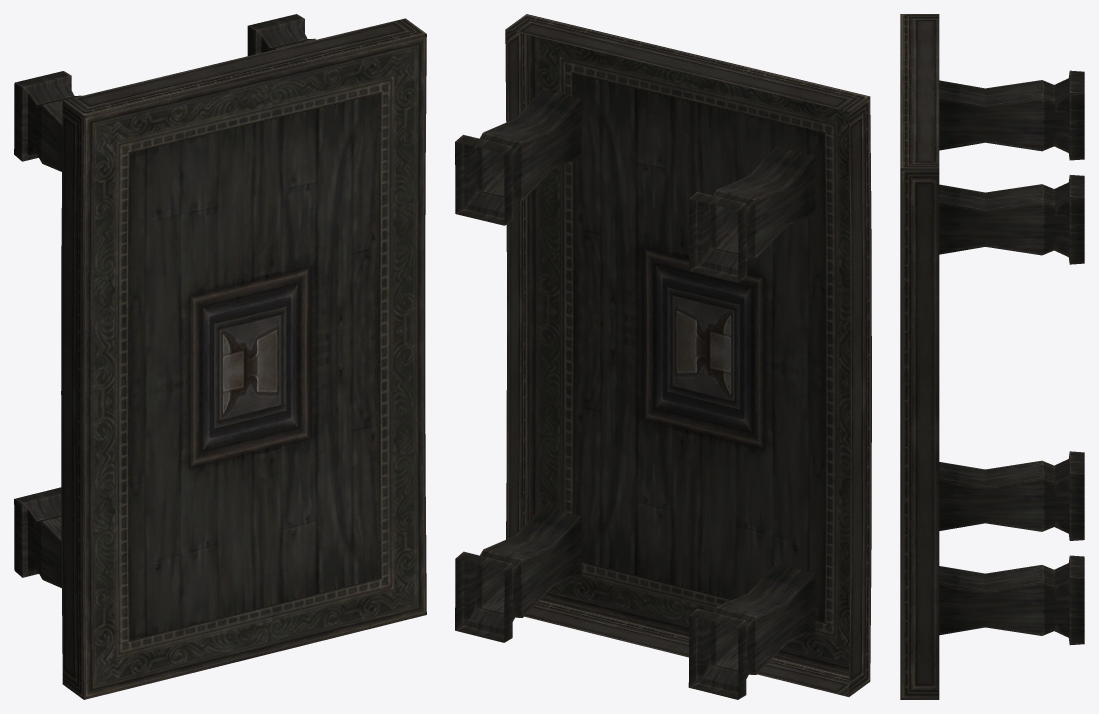
Rendered from juqing_fuben_254_jiuzhuo_01.obj.
The picture shows the model from 3 angles, left to right: view 1: azimuth 30°, elevation 25°; view 2: azimuth 150°, elevation 25°; view 3: azimuth 270°, elevation 25°; orthographic projection. The views are drawn at different scales.
Visible parts, largest first — view 1: juqing_fuben_254_jiuzhuo_01; view 2: juqing_fuben_254_jiuzhuo_01; view 3: juqing_fuben_254_jiuzhuo_01.
Boxes of the visible parts, x1=… form: juqing_fuben_254_jiuzhuo_01: x1=14, y1=14, x2=426, y2=699; juqing_fuben_254_jiuzhuo_01: x1=455, y1=14, x2=871, y2=699; juqing_fuben_254_jiuzhuo_01: x1=900, y1=14, x2=1084, y2=699.
Bounding box in the file's own units: 114 × 185 × 57.81.
1 material, 1 textured.
